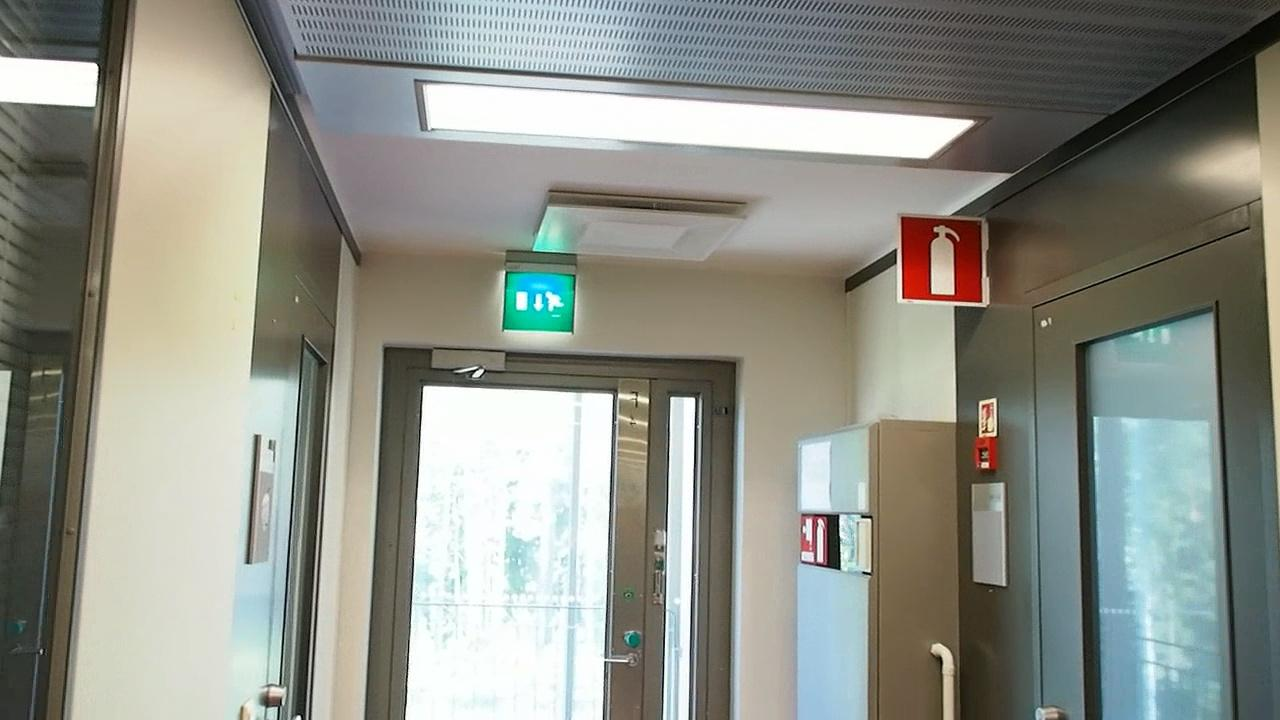exit: (499, 272, 577, 336)
fireextinguisher: (904, 215, 988, 307)
